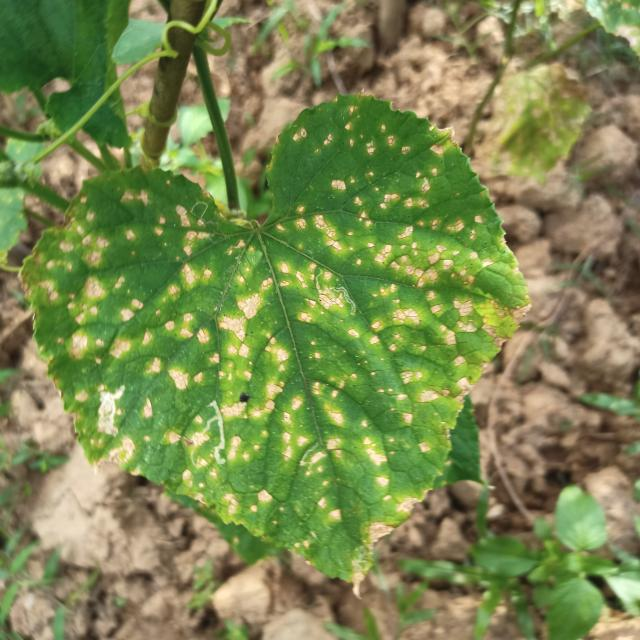disease_cucumber: (62, 124, 506, 538)
